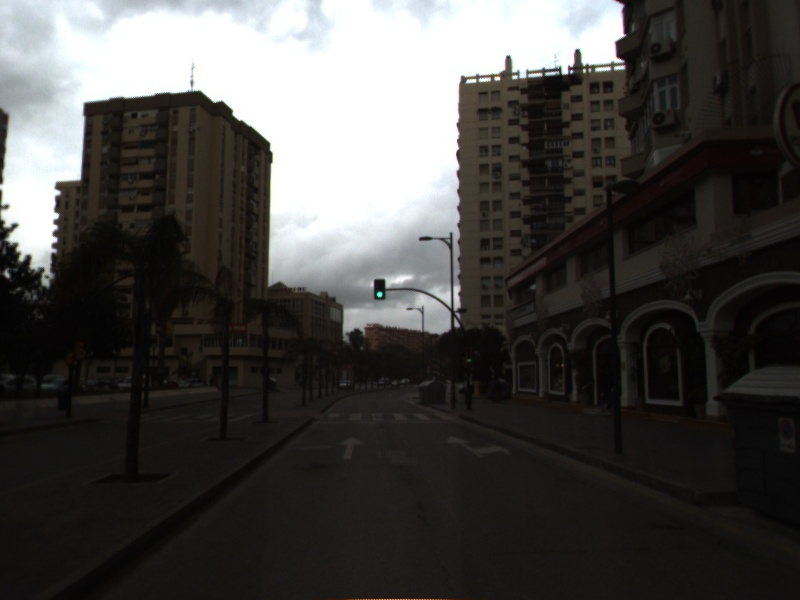STRAIGHT: (336, 434, 367, 462)
STRAIGHT_RIGHT: (445, 433, 512, 460)
